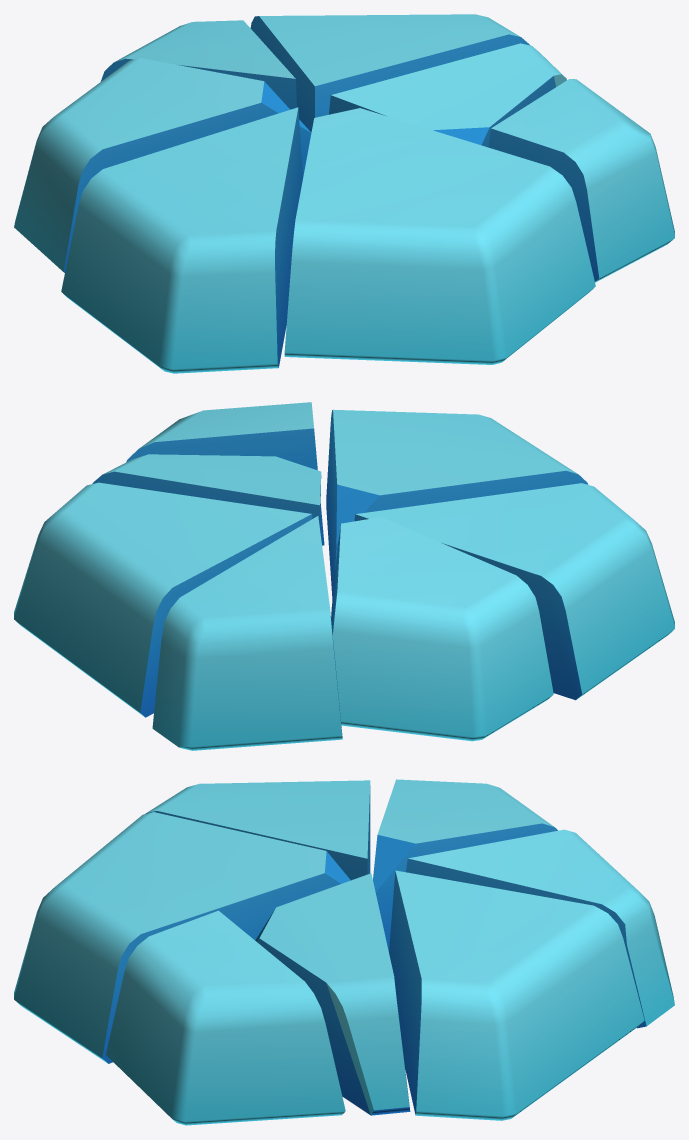
Rendered from obstacle_6_001.fbx.
3 views of the same model, one above another, from view 1: azimuth 30°, elevation 25°; view 2: azimuth 150°, elevation 25°; view 3: azimuth 270°, elevation 25° (orthographic). The views are drawn at different scales.
Visible parts, largest first — view 1: obstacle_6_001; view 2: obstacle_6_001; view 3: obstacle_6_001.
Part boxes in pixels (box(x1,y1,x2,y2)): obstacle_6_001: box(14, 14, 674, 373); obstacle_6_001: box(14, 402, 674, 750); obstacle_6_001: box(14, 779, 674, 1125).
Bounding box in the file's own units: 279 × 310 × 76.64.
